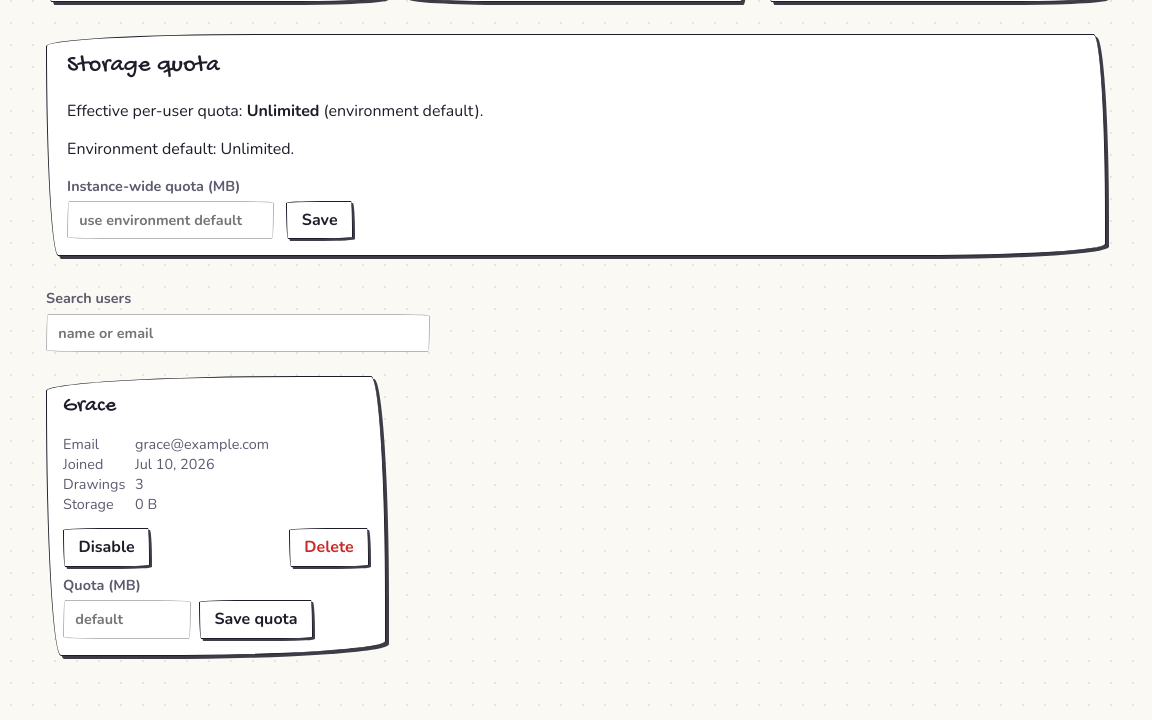
Test: AdminPage › disables a user and reflects the disabled state
(page scrolled)
Click the button "Disable".
click(107, 548)  # box left=63, top=528, right=150, bottom=567
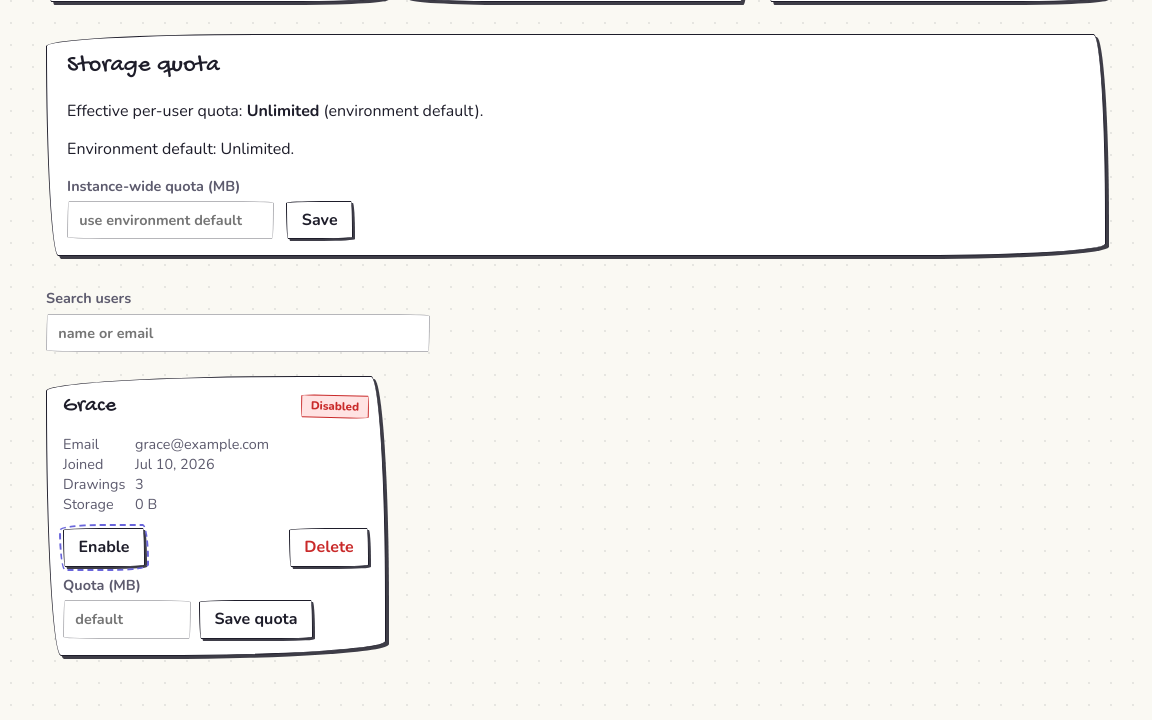
Check: the text "disabled" is shown, box left=301, top=394, right=369, bottom=419
Check: the button "Enable" is shown, box left=63, top=528, right=145, bottom=567
